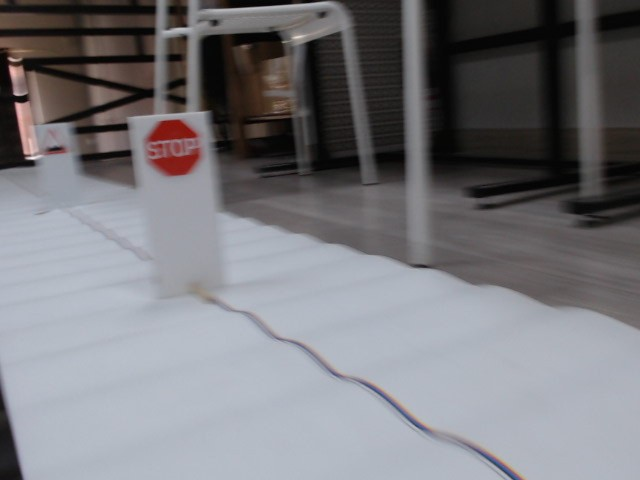Stop: (142, 118, 203, 181)
